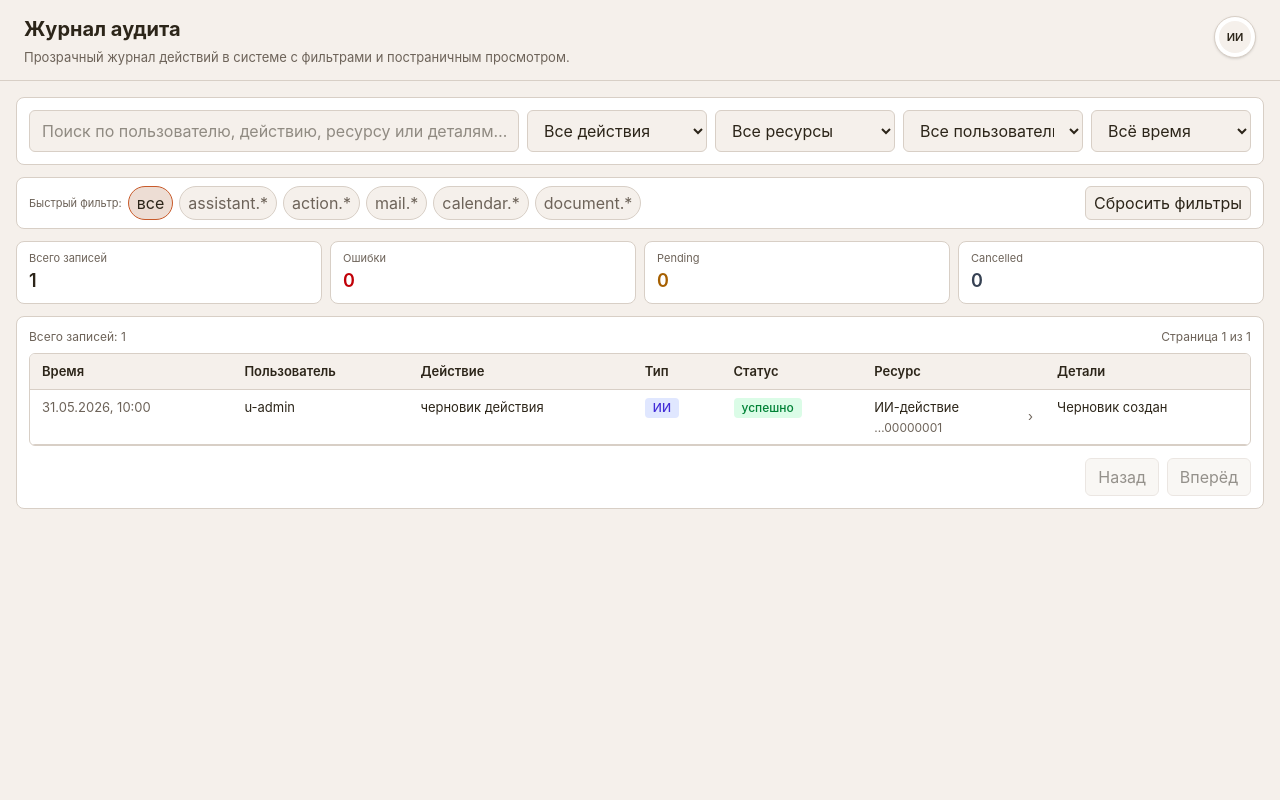
it: AuditPage — UUID truncation and expandable rows › expands detail row on toggle click and collapses on second click
This screenshot has width=1280, height=800.
Expected: the text "\"resourceId\"" is not shown
Click the button named "Показать детали" at coordinates (1030, 417), box x1=1028 y1=407 x2=1033 y2=427
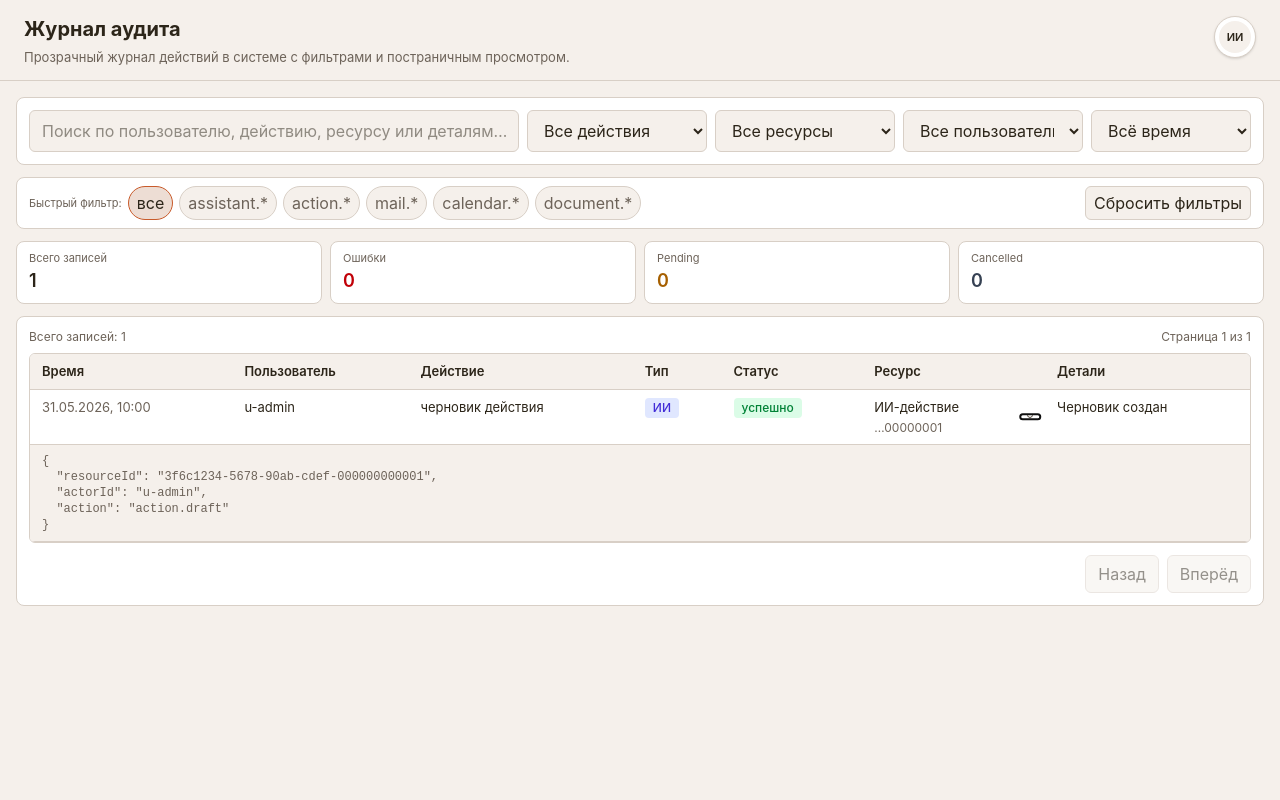
Now the text "\"resourceId\"" is shown, box x1=42 y1=454 x2=438 y2=532
Now the button named "Скрыть детали" is shown
Click the button named "Скрыть детали" at coordinates (1031, 417), box x1=1021 y1=415 x2=1040 y2=420
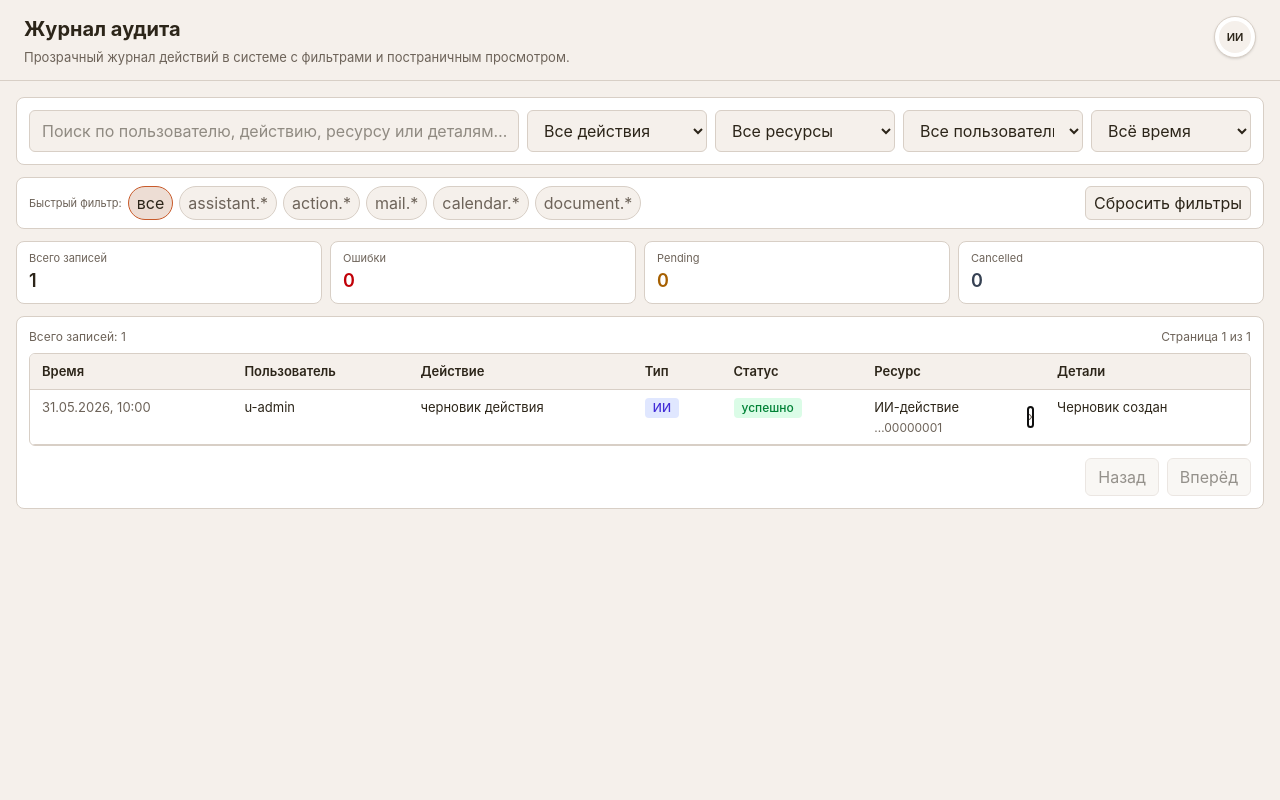
Now the text "\"resourceId\"" is gone
